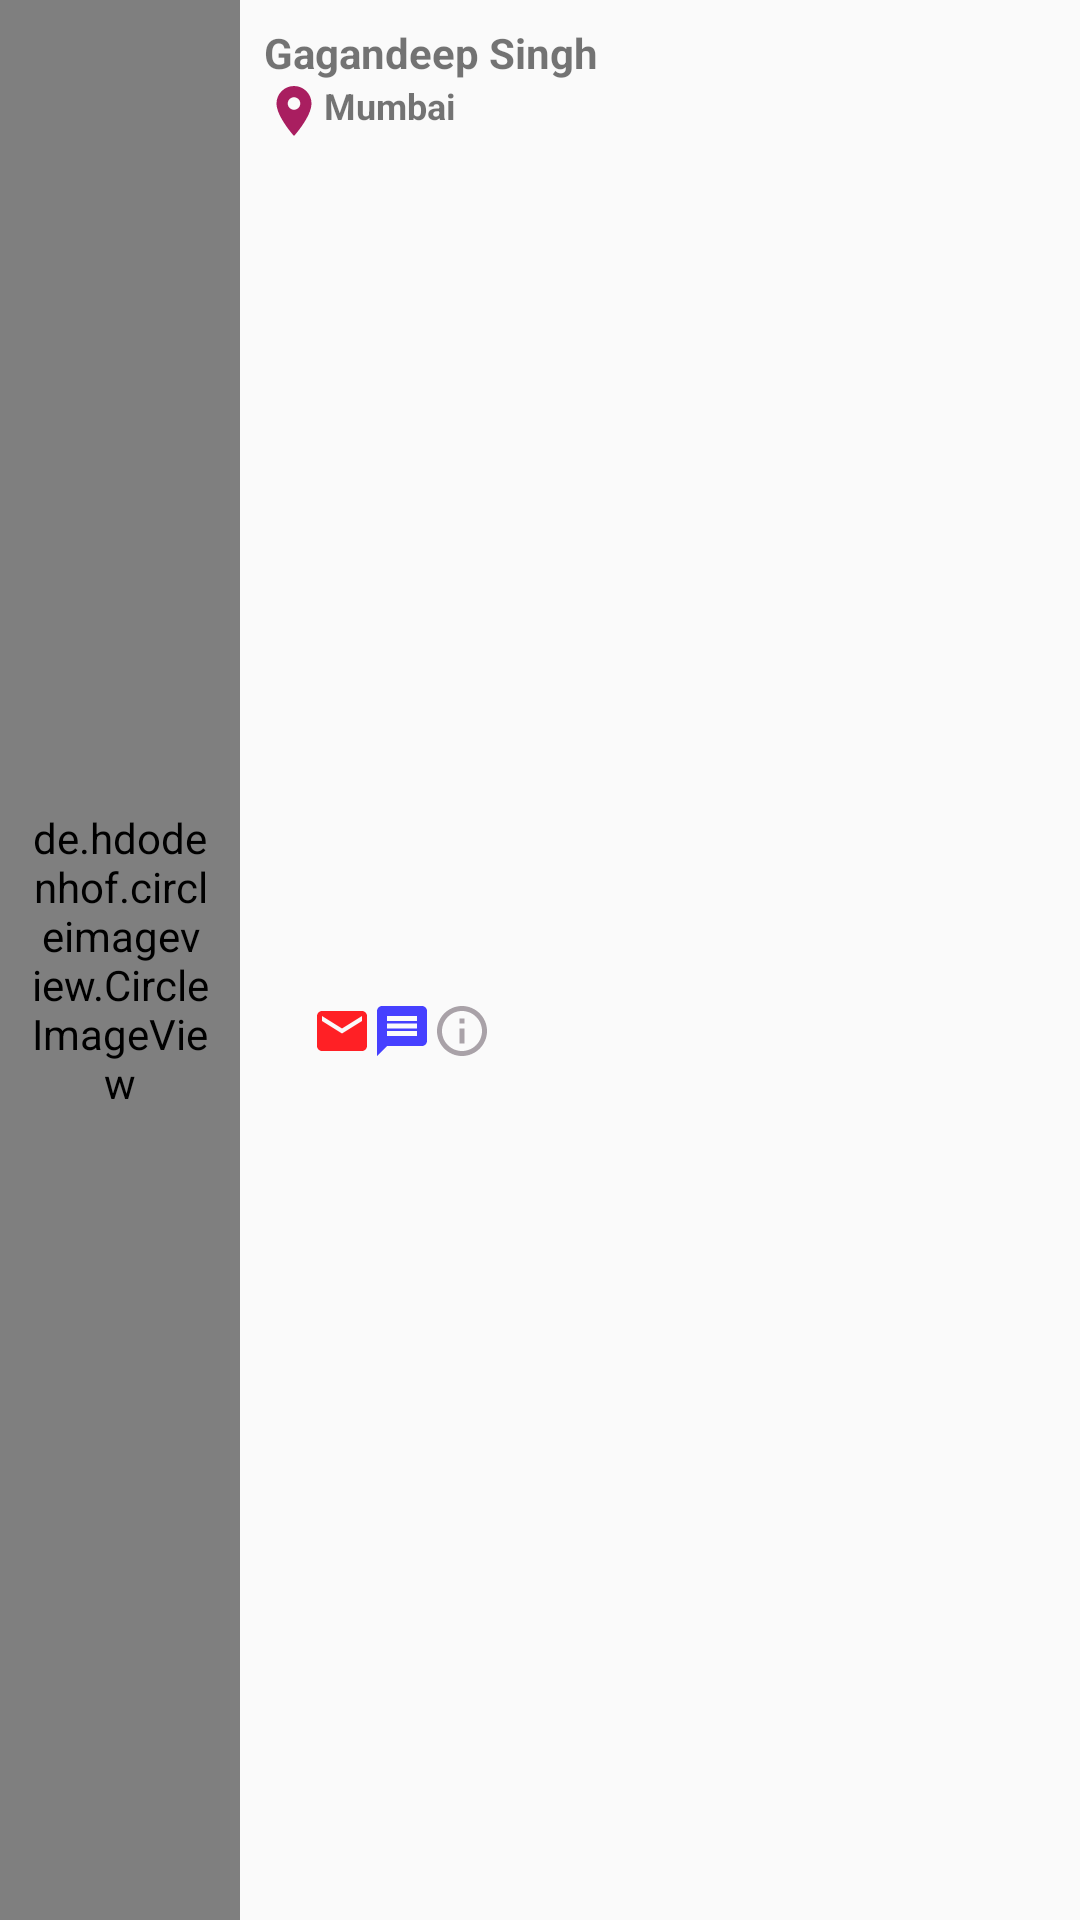

Screen size 1080px x 1920px. Icon name, then its center in pixels as point (x, y):
email: point (342, 1031)
info: point (462, 1031)
location: point (294, 111)
message: point (402, 1031)
